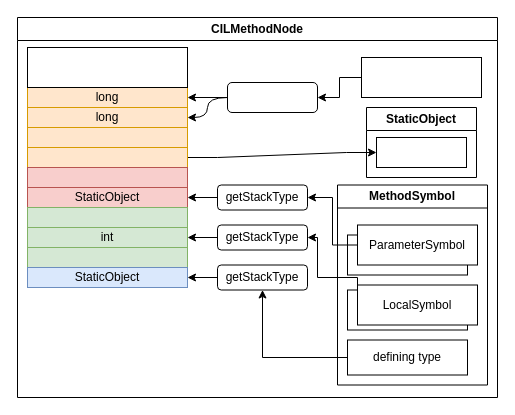
Image size: 515x415. Some labels were removed from this diagram. Here are the shapes that lost their labels. From the top down, the centre of each, then its label:
At (x=107, y=67): "VirtualFrame".
At (x=421, y=77): "Static analysis".
At (x=272, y=97): "Add(long, long)".
At (x=107, y=157): "StaticObject(List<int>)".
At (x=421, y=152): "TypeSymbol".
